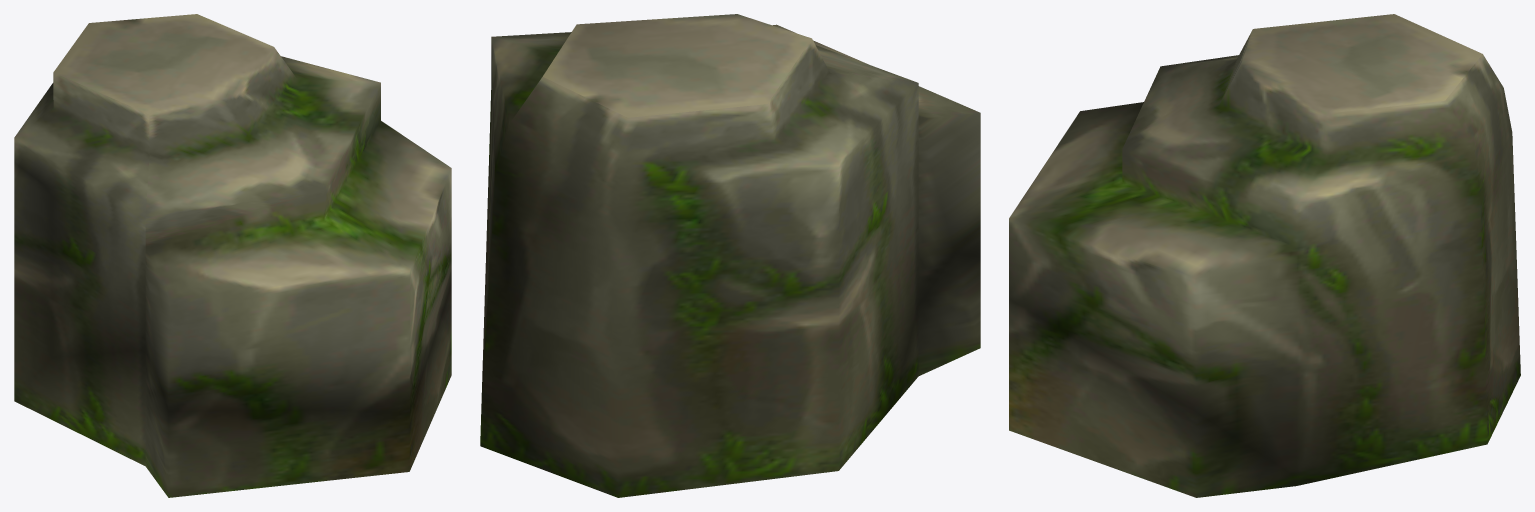
Rendered from RockFormation_4_5 (32).fbx.
3 views of the same model, side by side, from view 1: azimuth 30°, elevation 25°; view 2: azimuth 150°, elevation 25°; view 3: azimuth 270°, elevation 25° (orthographic). The views are drawn at different scales.
Parts seen in each view (by area): view 1: RockFormation_4_5 (32); view 2: RockFormation_4_5 (32); view 3: RockFormation_4_5 (32).
Part boxes in pixels (<box>): RockFormation_4_5 (32): <box>14,14,451,497</box>; RockFormation_4_5 (32): <box>480,14,980,497</box>; RockFormation_4_5 (32): <box>1009,14,1520,497</box>.
Bounding box in the file's own units: 617 × 513 × 729.
